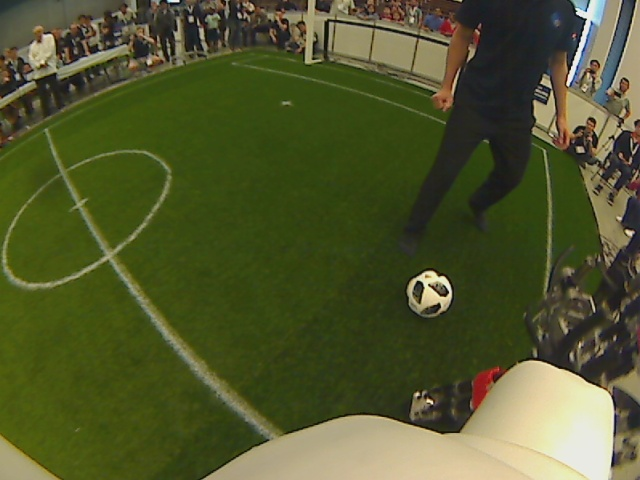ball: (406, 268, 453, 319)
